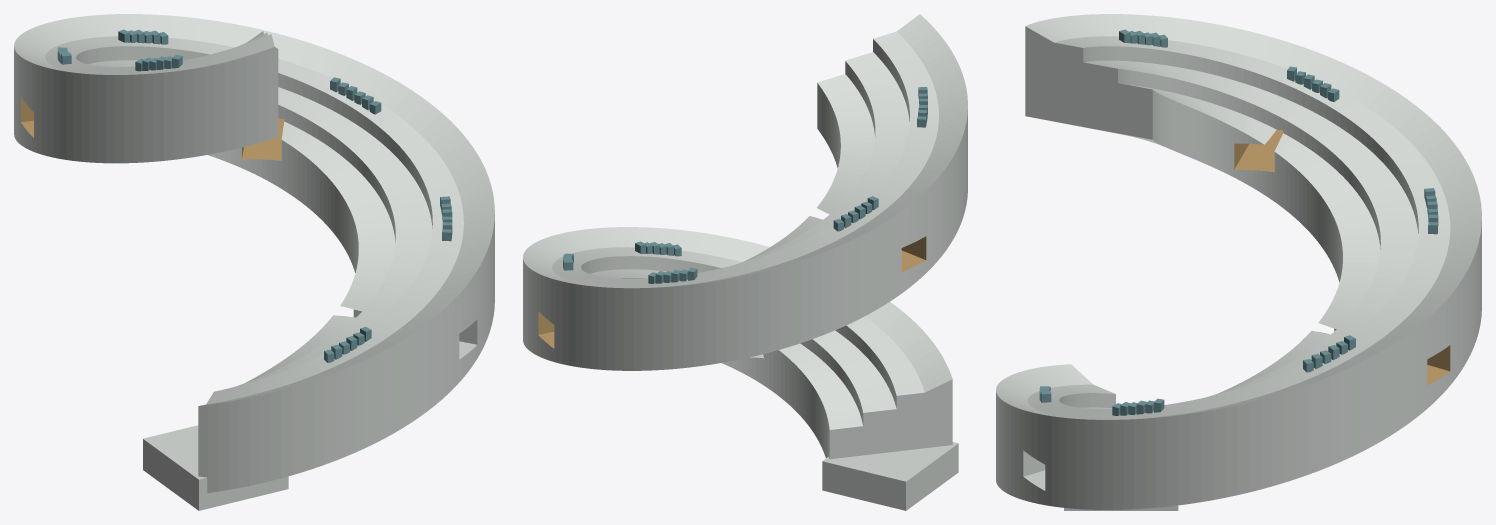
The picture shows the model from 3 angles, left to right: view 1: azimuth 30°, elevation 25°; view 2: azimuth 150°, elevation 25°; view 3: azimuth 270°, elevation 25°; orthographic projection. The views are drawn at different scales.
Parts seen in each view (by area): view 1: P1_CONTINUOUS_CITY_FOLD, P1_ground_transfer; view 2: P1_CONTINUOUS_CITY_FOLD, P1_ground_transfer; view 3: P1_CONTINUOUS_CITY_FOLD.
Boxes of the visible parts, <box> form: P1_CONTINUOUS_CITY_FOLD: <box>14,14,494,493</box>; P1_ground_transfer: <box>143,425,288,510</box>; P1_CONTINUOUS_CITY_FOLD: <box>523,14,967,459</box>; P1_ground_transfer: <box>822,442,958,510</box>; P1_CONTINUOUS_CITY_FOLD: <box>996,14,1481,509</box>.
Bounding box in the file's own units: 5557 × 5900 × 5526.
